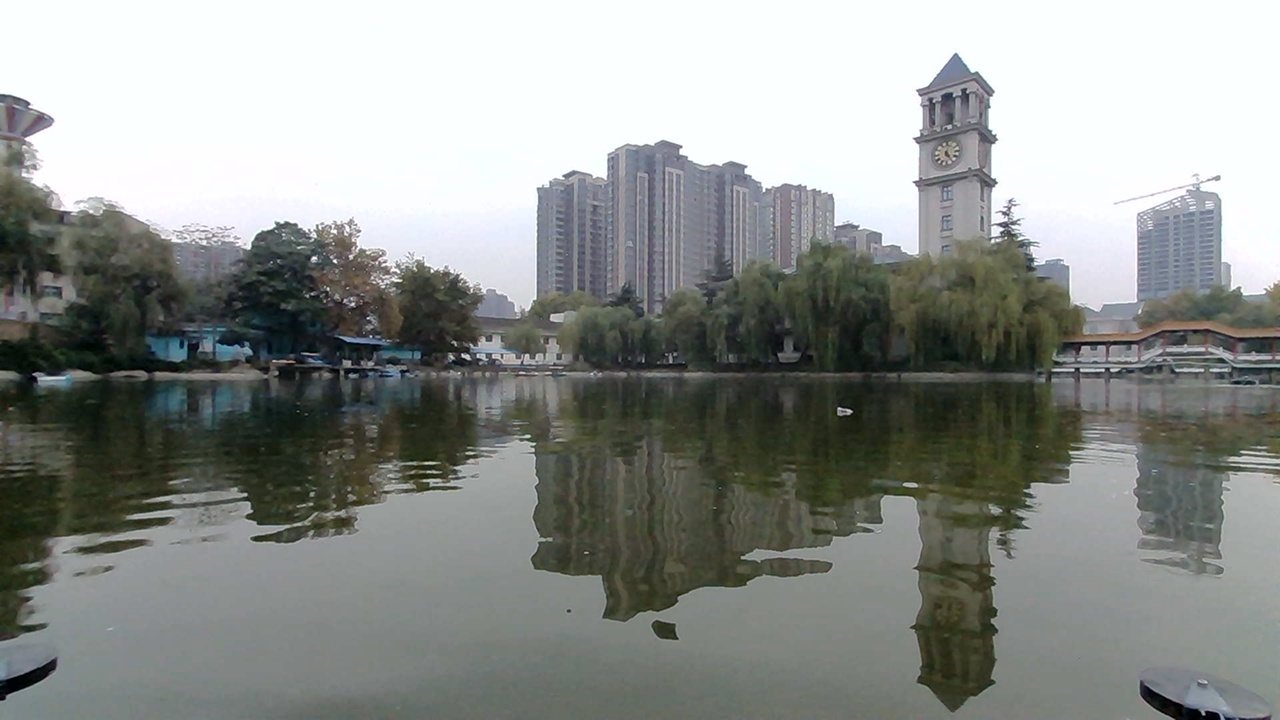bottle: (832, 394, 871, 424)
